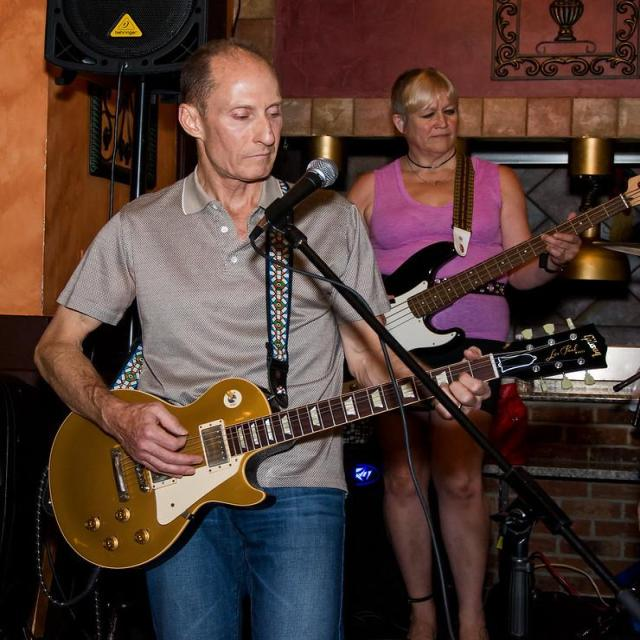bass: (366, 171, 639, 357)
